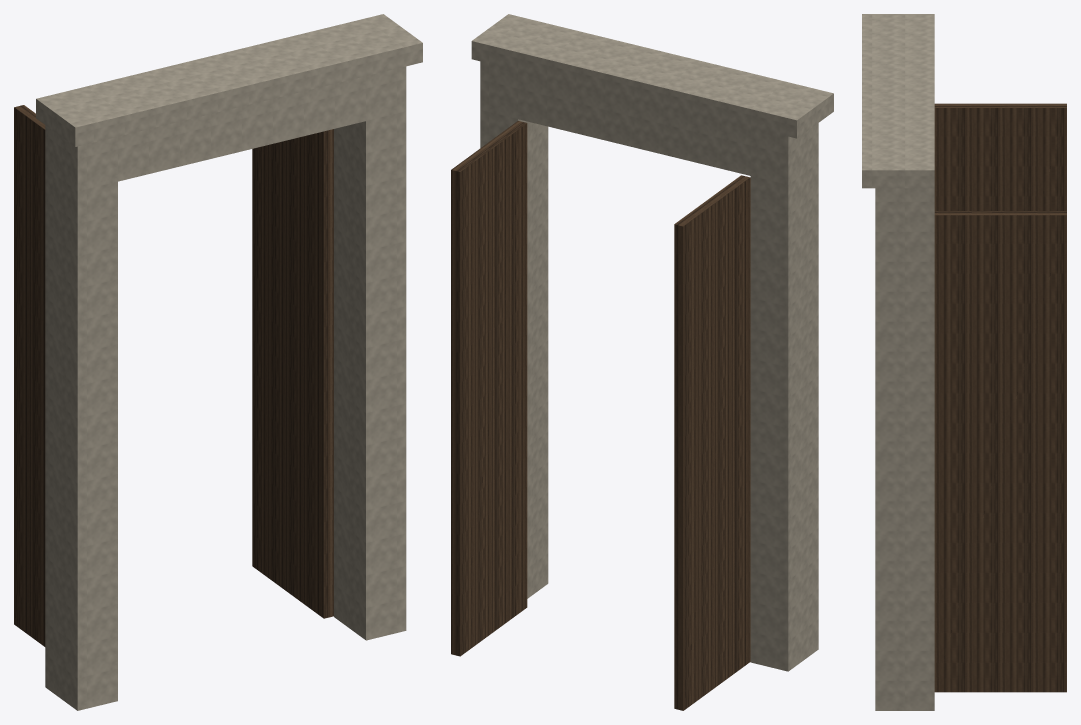
Rendered from Door_Throne_Imperial_1_LOD2.gltf.
3 views of the same model, side by side, from view 1: azimuth 30°, elevation 25°; view 2: azimuth 150°, elevation 25°; view 3: azimuth 270°, elevation 25° (orthographic). The views are drawn at different scales.
Visible parts, largest first — view 1: Door_Throne_Imperial_1_LOD2; view 2: Door_Throne_Imperial_1_LOD2; view 3: Door_Throne_Imperial_1_LOD2.
Part boxes in pixels (x1,y1,x2,y2): Door_Throne_Imperial_1_LOD2: [14, 14, 422, 710]; Door_Throne_Imperial_1_LOD2: [451, 14, 833, 710]; Door_Throne_Imperial_1_LOD2: [862, 14, 1066, 710].
Bounding box in the file's own units: 11.2 × 18.2 × 6.2.
Materials: 2 (2 with a texture image).
